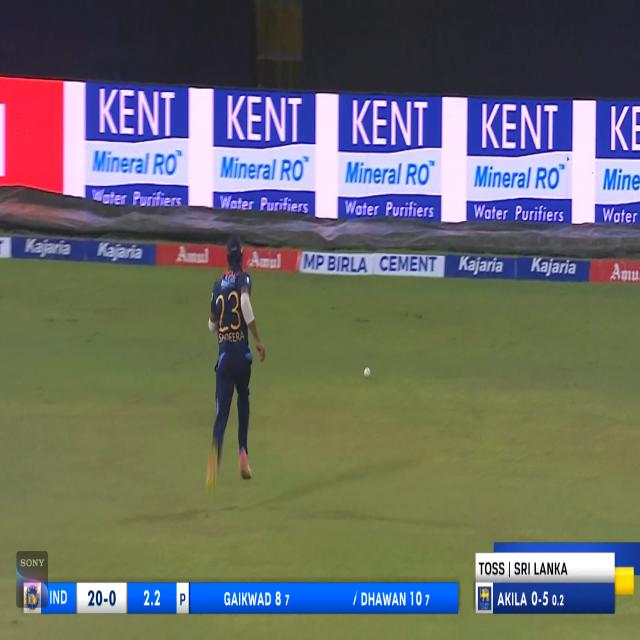ball: (363, 367, 371, 380)
